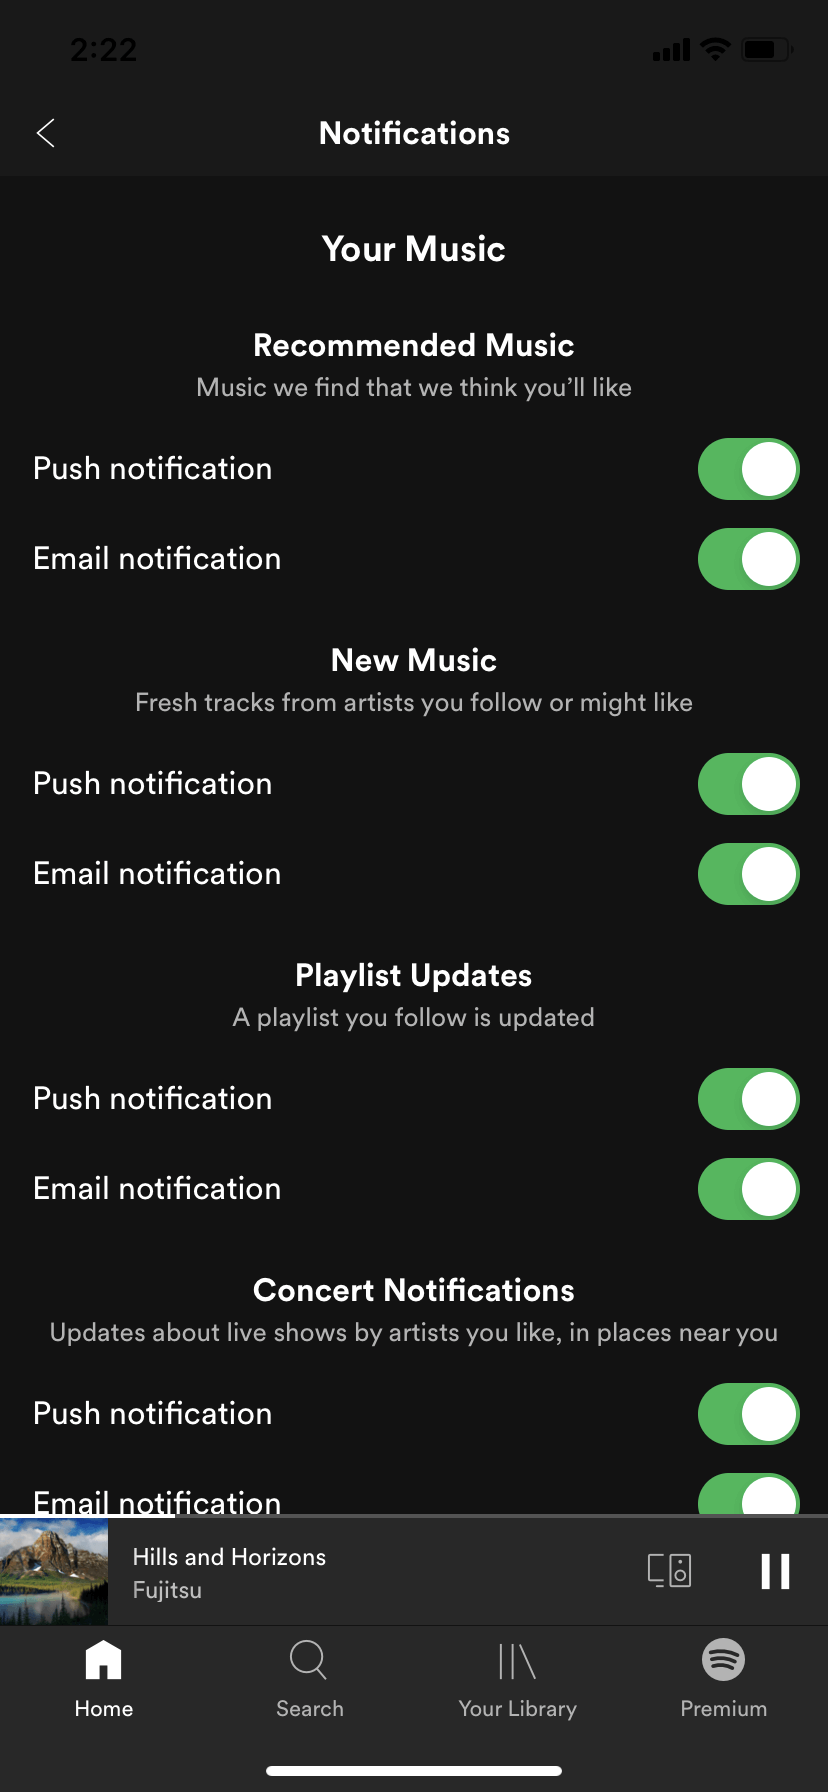Buttons: (9, 88, 93, 165), (629, 1535, 703, 1609), (745, 1535, 809, 1608)
Switches: (687, 427, 811, 506), (688, 523, 806, 597), (693, 747, 804, 821), (695, 1061, 805, 1133), (691, 1377, 801, 1448), (693, 1153, 798, 1226), (694, 837, 801, 909), (690, 1471, 801, 1515)
